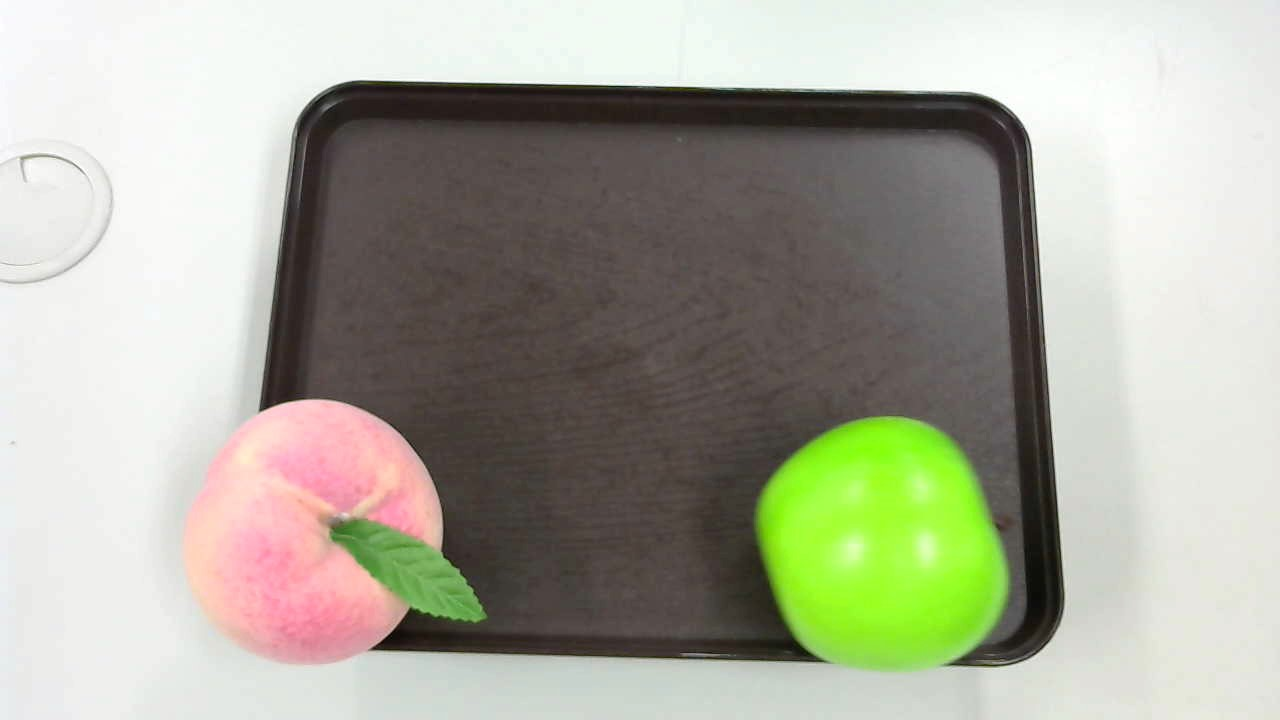green apple: (752, 411, 1016, 676)
peach: (184, 398, 486, 669)
